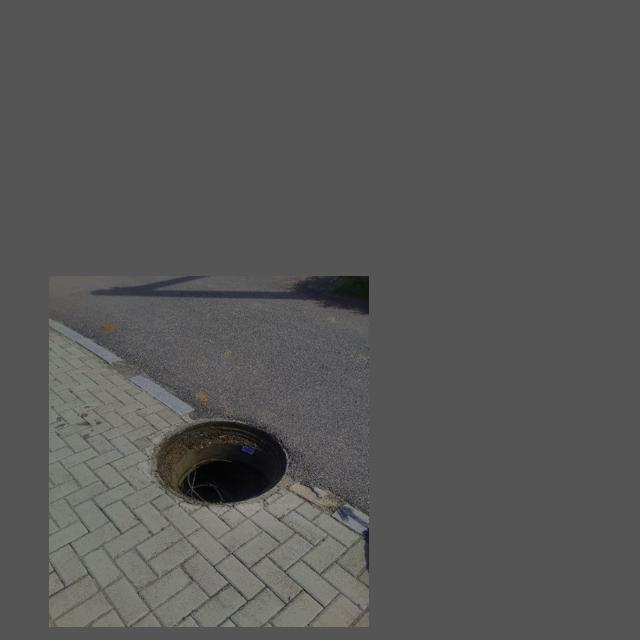lose: (149, 418, 290, 506)
